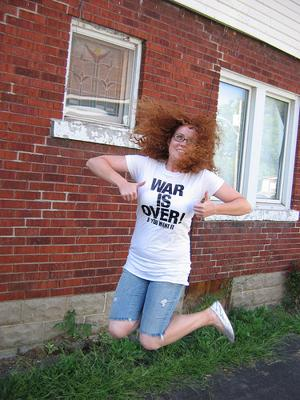person: (84, 111, 253, 348)
